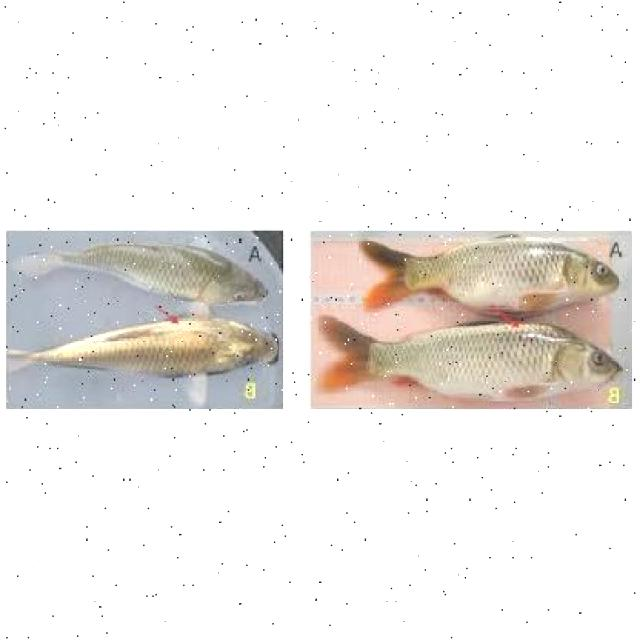ikan-mas: (322, 314, 626, 396), (353, 238, 624, 316), (15, 308, 277, 384), (29, 232, 269, 306)
